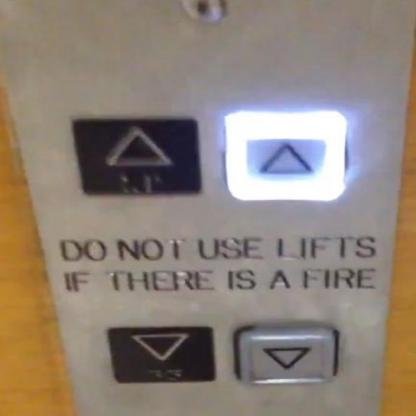down: (230, 322, 340, 388), (104, 323, 215, 385)
up: (220, 111, 349, 203), (69, 115, 203, 196)
